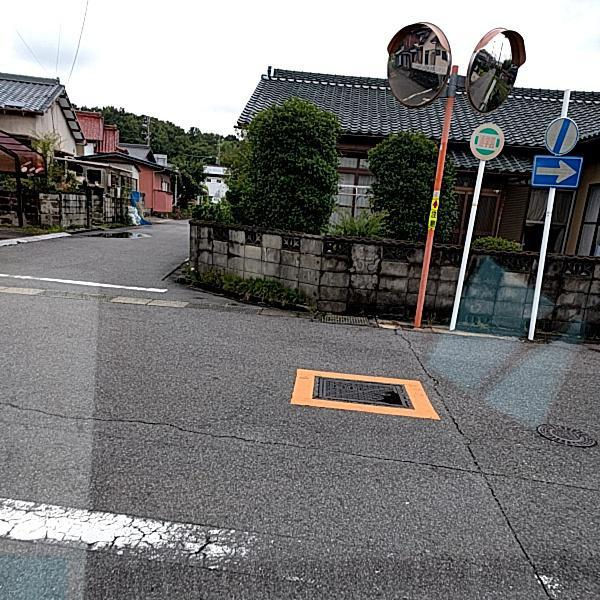D50: (308, 373, 408, 405), (534, 421, 593, 448)
